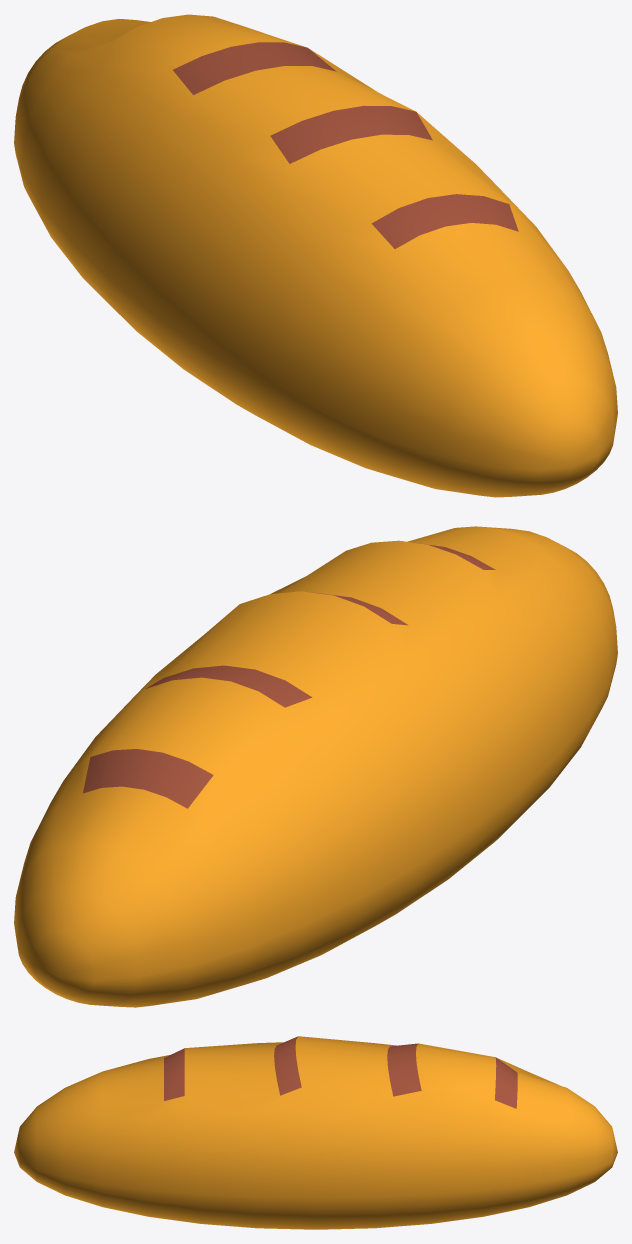
Rendered from Bread.FBX.
3 views of the same model, one above another, from view 1: azimuth 30°, elevation 25°; view 2: azimuth 150°, elevation 25°; view 3: azimuth 270°, elevation 25° (orthographic). The views are drawn at different scales.
Parts seen in each view (by area): view 1: Bread; view 2: Bread; view 3: Bread.
Part boxes in pixels (x1,y1,x2,y2): Bread: [14, 14, 617, 497]; Bread: [14, 526, 617, 1007]; Bread: [14, 1036, 617, 1229].
Size of the model in its own units: 20 by 17.23 by 56.
